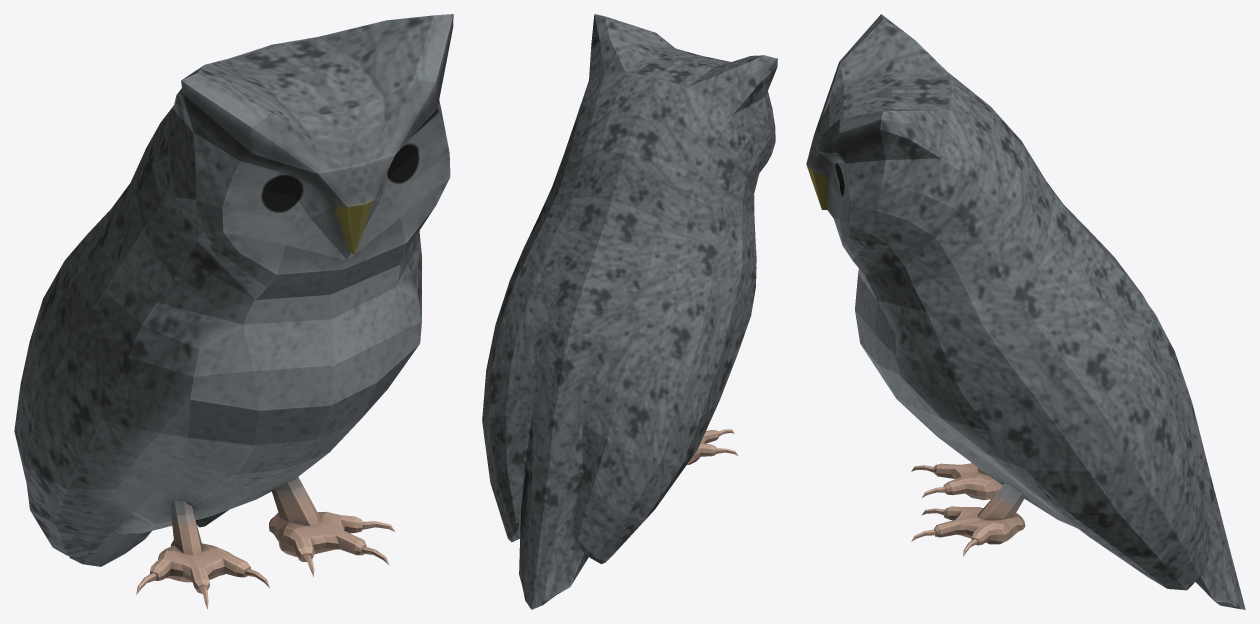
The model's file is owl.glb.
3 renders of one model, left to right at view 1: azimuth 30°, elevation 25°; view 2: azimuth 150°, elevation 25°; view 3: azimuth 270°, elevation 25°, orthographic. The views are drawn at different scales.
Parts seen in each view (by area): view 1: ScreechOwl_mesh; view 2: ScreechOwl_mesh; view 3: ScreechOwl_mesh.
Boxes of the visible parts, x1,y1,x2,y2 form: ScreechOwl_mesh: [14, 14, 453, 608]; ScreechOwl_mesh: [482, 14, 777, 609]; ScreechOwl_mesh: [806, 14, 1245, 609].
Size of the model in its own units: 2.99 by 6.31 by 4.62.
1 material, 1 textured.
